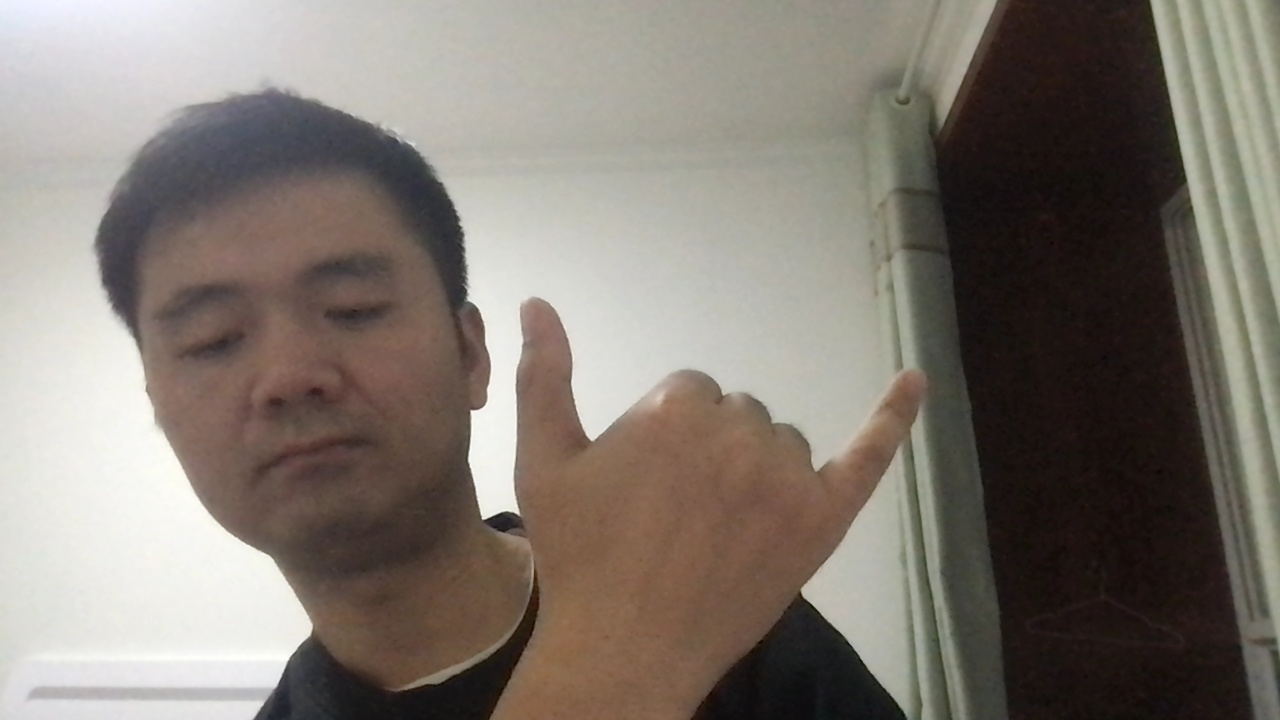iloveyou: (505, 284, 933, 636)
